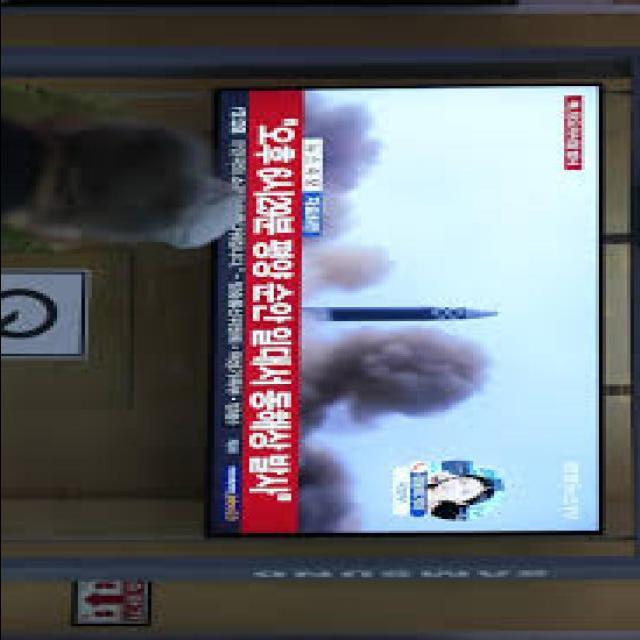Missile: (309, 302, 509, 326)
